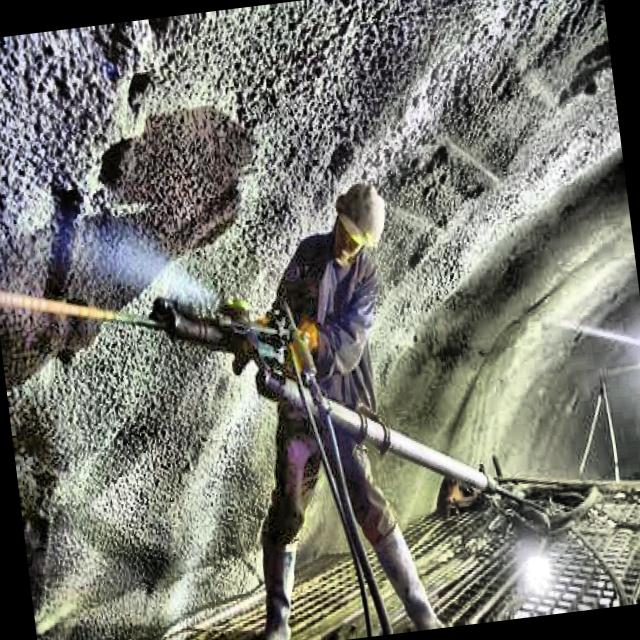helmet: (324, 180, 392, 266)
